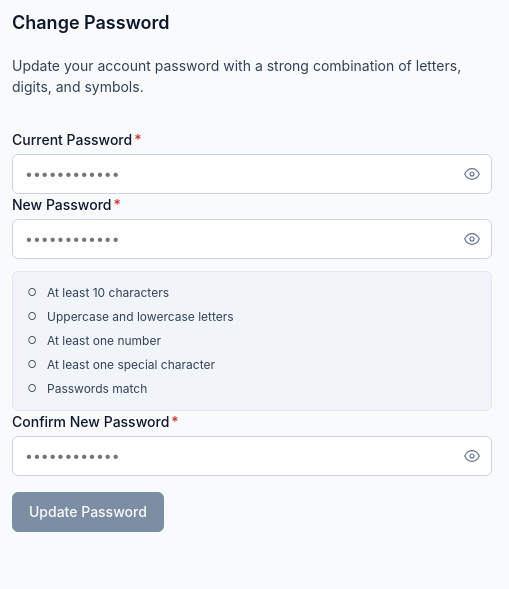
ChangePasswordForm › dynamically computes strength meter and checklist rules as user types
Type "weak" into the password field with test id "input-new-password" at {"x": 252, "y": 238}, box left=12, top=218, right=492, bottom=258
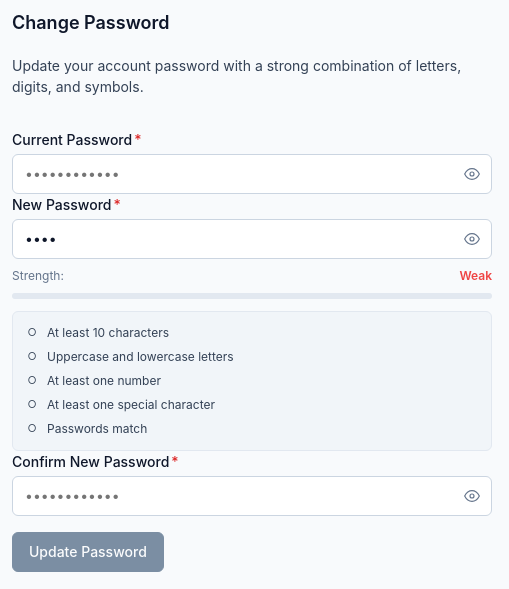
Check: the text with test id "password-strength-label" reads "Weak", box left=459, top=268, right=492, bottom=282
Type "Password12" into the password field with test id "input-new-password" at {"x": 252, "y": 238}, box left=12, top=218, right=492, bottom=258
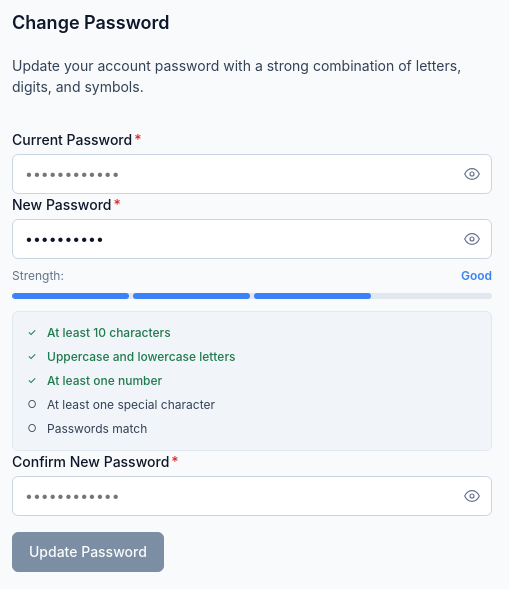
Check: the text with test id "password-strength-label" reads "Good", box left=461, top=268, right=492, bottom=282
Check: the element with test id "rule-min-length" shows "✓", box left=28, top=326, right=36, bottom=338
Check: the element with test id "rule-mixed-case" shows "✓", box left=28, top=350, right=36, bottom=362
Type "Password123!" into the password field with test id "input-new-password" at {"x": 252, "y": 238}, box left=12, top=218, right=492, bottom=258
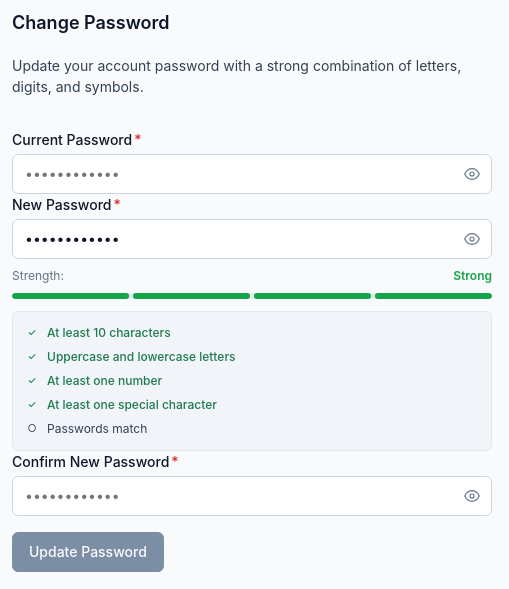
Check: the text with test id "password-strength-label" reads "Strong", box left=453, top=268, right=492, bottom=282
Check: the element with test id "rule-special-char" shows "✓", box left=28, top=398, right=36, bottom=410
